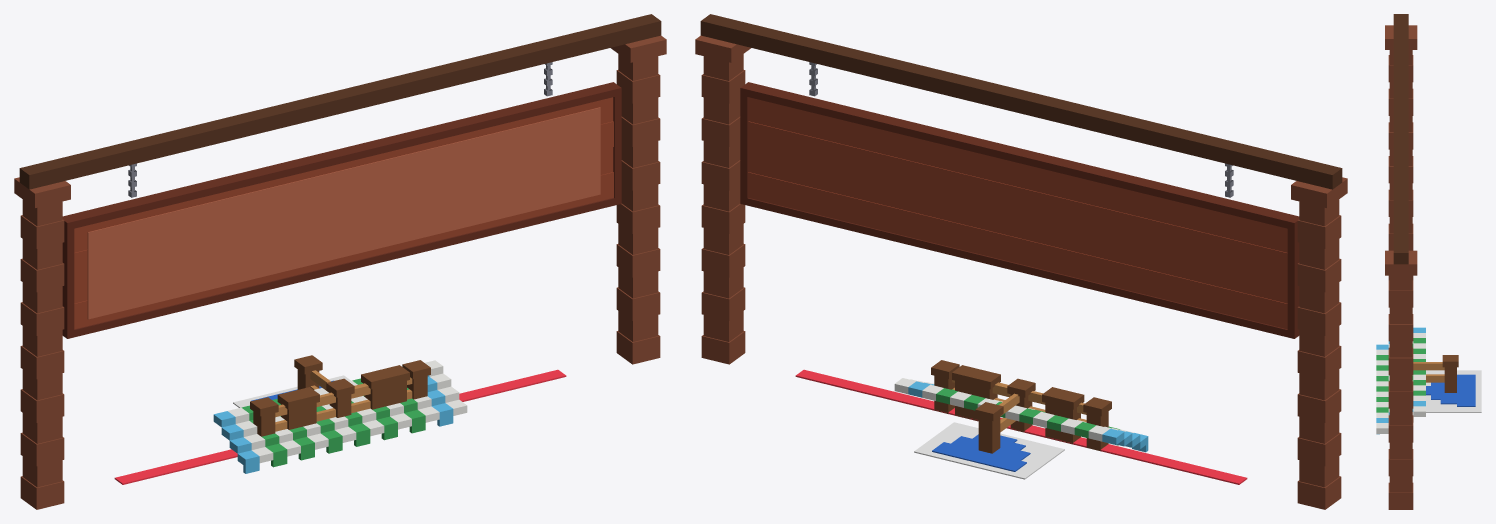
File: Piezas_Juego.fbx
3 renders of one model, left to right at view 1: azimuth 30°, elevation 25°; view 2: azimuth 150°, elevation 25°; view 3: azimuth 270°, elevation 25°, orthographic. The views are drawn at different scales.
Parts seen in each view (by area): view 1: Cartel_Cara, Cartel_Colgante_Ladrillo, Cartel_Colgante_Viga, Cartel_Colgante_Marco, Cartel_Colgante_Tablas, Toldo_Puesto_Color, Cerca_Puerta_Poste, Toldo_Puesto_Blanco, Linea_ZonaSegura_Linea, Toldo_Tienda_Color, Cerca_Esquina_Poste, Toldo_Tienda_Blanco (+2 smaller); view 2: Cartel_Colgante_Tablas, Cartel_Colgante_Ladrillo, Cartel_Colgante_Viga, Cartel_Colgante_Marco, Linea_ZonaSegura_Linea, Cerca_Puerta_Poste, Cerca_Esquina_Poste, Linea_ZonaSegura_Linea_Marco, Linea_Escudo, Cerca_Madera_Poste, Toldo_Puesto_Blanco, Toldo_Puesto_Color (+1 smaller); view 3: Cartel_Colgante_Ladrillo, Cartel_Colgante_Viga, Linea_Escudo, Linea_ZonaSegura_Linea_Marco, Toldo_Puesto_Color, Toldo_Puesto_Blanco, Cerca_Esquina_Poste, Toldo_Tienda_Blanco, Cerca_Esquina_Tablon, Toldo_Tienda_Color.
Part boxes in pixels (x1,y1,x2,y2): Cartel_Cara: (87, 107, 600, 319); Cartel_Colgante_Ladrillo: (14, 35, 666, 509); Cartel_Colgante_Viga: (19, 14, 661, 189); Cartel_Colgante_Marco: (62, 82, 621, 338); Cartel_Colgante_Tablas: (74, 97, 613, 329); Toldo_Puesto_Color: (241, 378, 425, 467); Cerca_Puerta_Poste: (250, 360, 430, 436); Toldo_Puesto_Blanco: (275, 380, 439, 456); Linea_ZonaSegura_Linea: (114, 369, 566, 484); Toldo_Tienda_Color: (213, 375, 453, 473); Cerca_Esquina_Poste: (294, 355, 409, 417); Toldo_Tienda_Blanco: (228, 360, 467, 463); Cartel_Colgante_Tablas: (748, 97, 1287, 329); Cartel_Colgante_Ladrillo: (695, 35, 1347, 509); Cartel_Colgante_Viga: (700, 14, 1342, 189); Cartel_Colgante_Marco: (740, 82, 1299, 338); Linea_ZonaSegura_Linea: (795, 369, 1247, 484); Cerca_Puerta_Poste: (931, 360, 1111, 451); Cerca_Esquina_Poste: (952, 365, 1035, 453); Linea_ZonaSegura_Linea_Marco: (914, 422, 1064, 479); Linea_Escudo: (932, 434, 1030, 471); Cerca_Madera_Poste: (960, 367, 1084, 444); Toldo_Puesto_Blanco: (922, 384, 1086, 434); Toldo_Puesto_Color: (936, 388, 1119, 445); Cartel_Colgante_Ladrillo: (1385, 25, 1417, 509); Cartel_Colgante_Viga: (1393, 14, 1408, 264); Linea_Escudo: (1426, 374, 1475, 406); Linea_ZonaSegura_Linea_Marco: (1426, 370, 1481, 412); Toldo_Puesto_Color: (1376, 338, 1425, 412); Toldo_Puesto_Blanco: (1376, 343, 1425, 417); Cerca_Esquina_Poste: (1442, 355, 1458, 392); Toldo_Tienda_Blanco: (1376, 333, 1425, 433); Cerca_Esquina_Tablon: (1413, 362, 1444, 382); Toldo_Tienda_Color: (1376, 327, 1425, 434).
Bounding box in the file's own units: 12.77 × 6.58 × 2.38.
